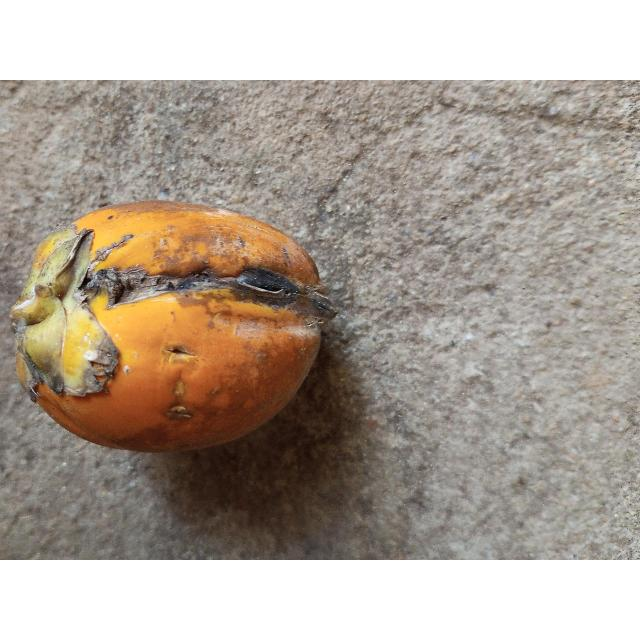damaged: (11, 201, 336, 451)
